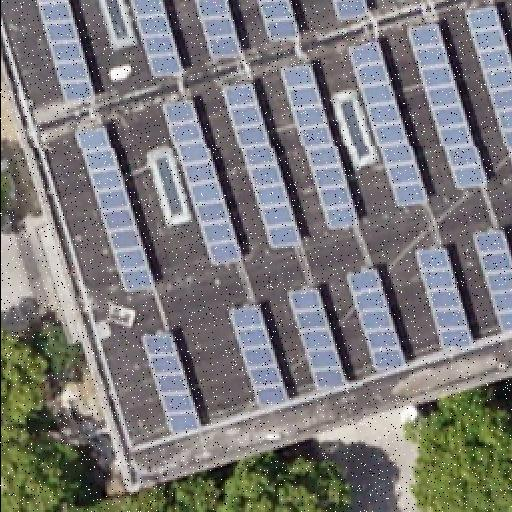solar-panel: (161, 100, 247, 268), (74, 127, 158, 297), (220, 82, 304, 250), (403, 24, 485, 192), (279, 65, 361, 231), (346, 40, 426, 208), (464, 5, 512, 171), (345, 267, 407, 373), (140, 333, 204, 435), (229, 306, 291, 410), (285, 288, 347, 392), (415, 248, 473, 352), (39, 1, 97, 103), (130, 1, 186, 79), (472, 229, 512, 331), (196, 0, 244, 60), (256, 0, 300, 40), (329, 1, 367, 23)
